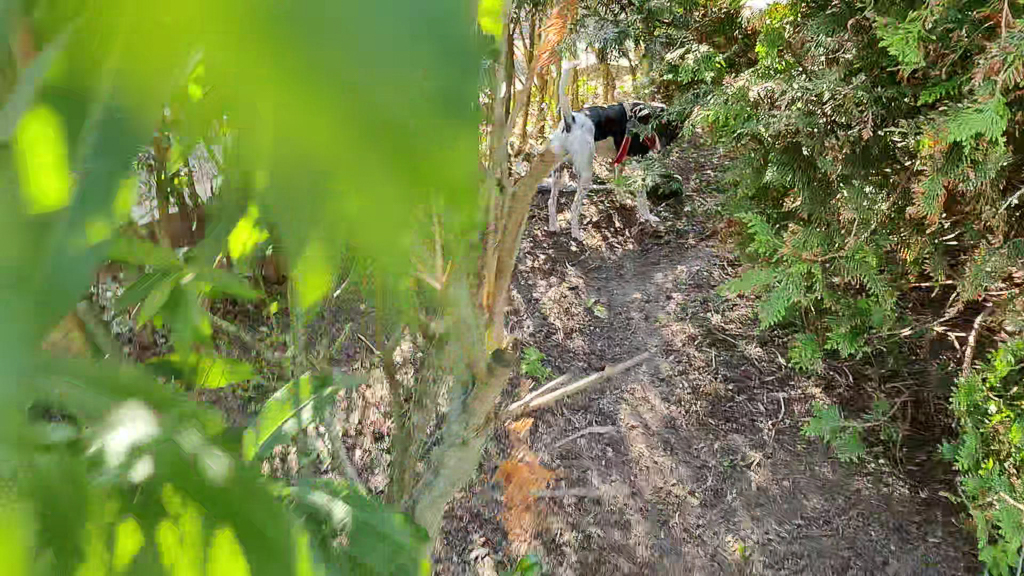Dog: (540, 56, 699, 242)
